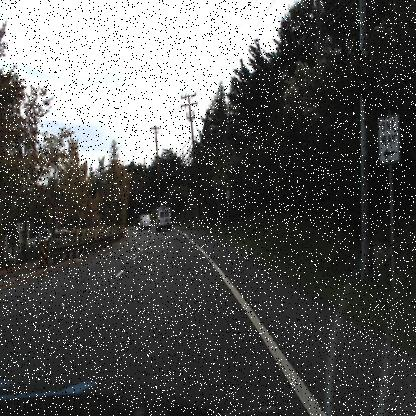car: (150, 200, 171, 228), (30, 226, 53, 249), (32, 226, 55, 248), (137, 210, 152, 232), (51, 224, 67, 235)
